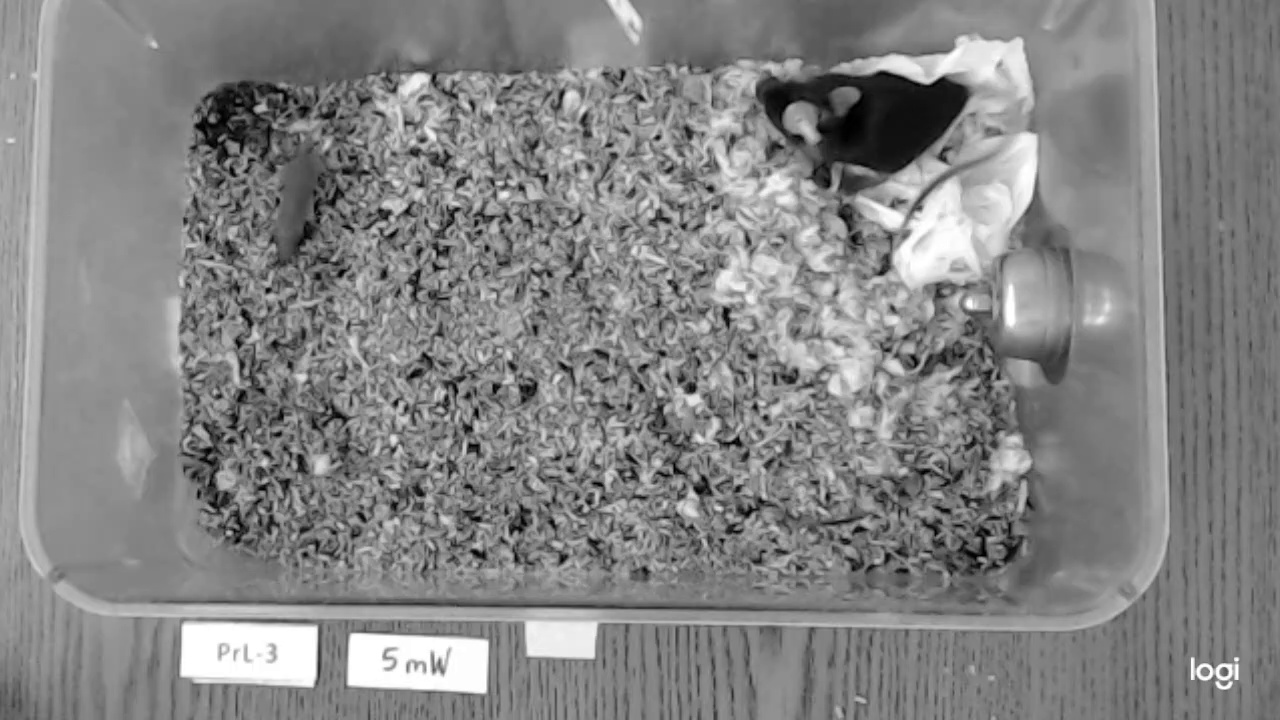child-mice: (267, 153, 322, 261)
